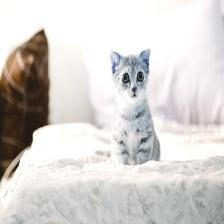kedo: (111, 49, 161, 166)
